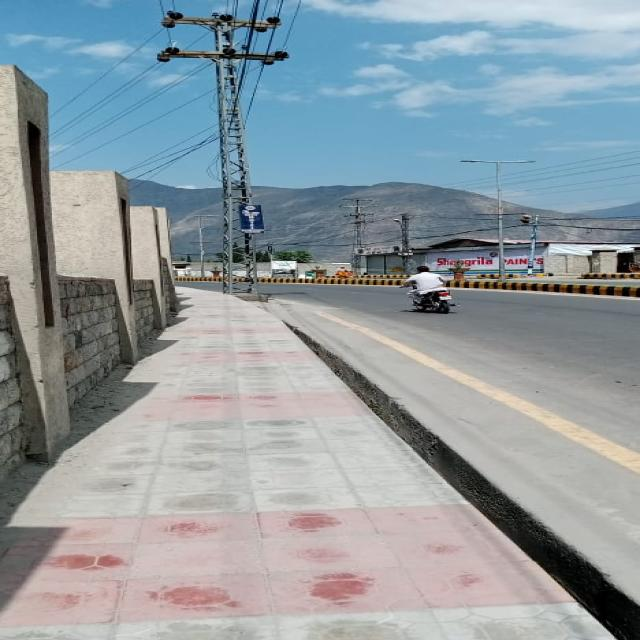Left-Turn: (183, 273, 224, 293)
